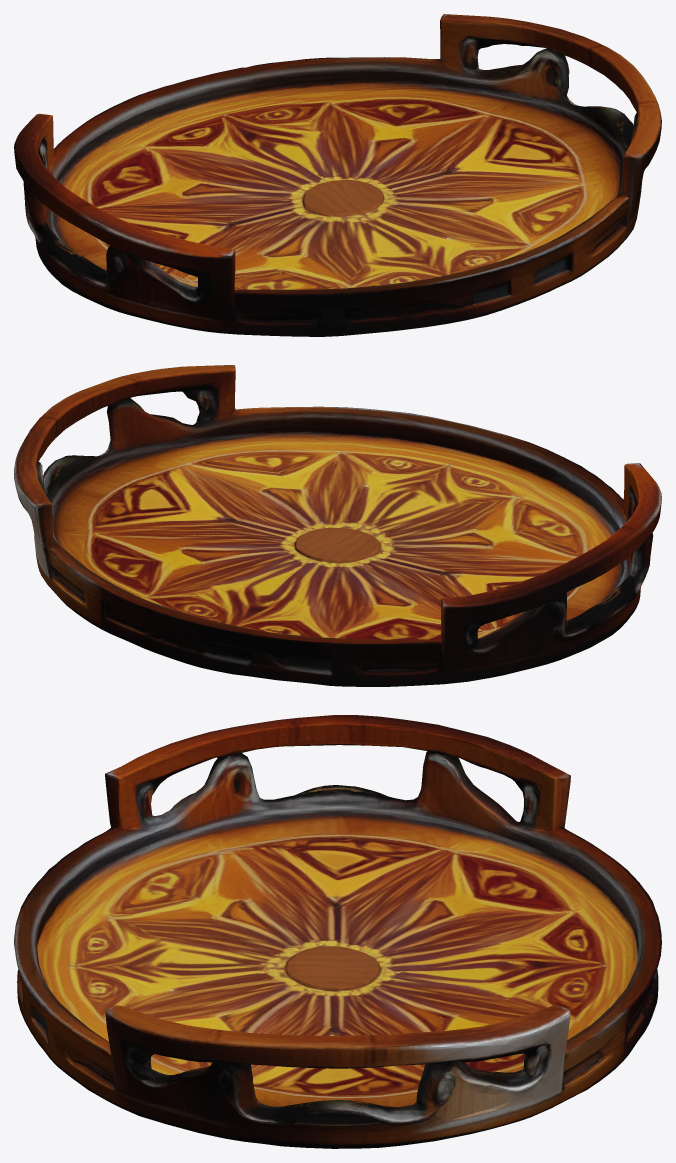
File: wooden-serving-tray-art-deco.jpeg.glb
3 views of the same model, one above another, from view 1: azimuth 30°, elevation 25°; view 2: azimuth 150°, elevation 25°; view 3: azimuth 270°, elevation 25° (orthographic). The views are drawn at different scales.
Parts seen in each view (by area): view 1: world; view 2: world; view 3: world.
Boxes of the visible parts, x1,y1,x2,y2 form: world: (14,14,661,336); world: (14,365,661,686); world: (14,715,661,1148).
Size of the model in its own units: 0.999 by 0.1617 by 0.8256.
Materials: 1 (1 with a texture image).
